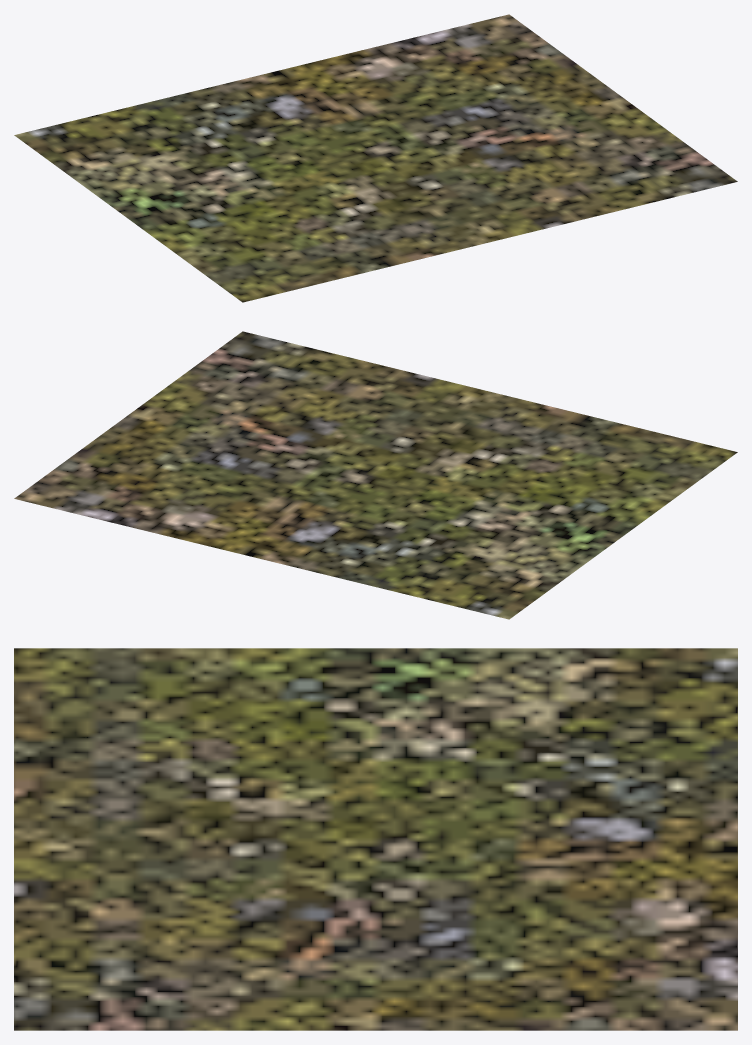
The model's file is Emb_BalconyPlanter_CapDirt_01.FBX.
The picture shows the model from 3 angles, top to bottom: view 1: azimuth 30°, elevation 25°; view 2: azimuth 150°, elevation 25°; view 3: azimuth 270°, elevation 25°; orthographic projection. The views are drawn at different scales.
Visible parts, largest first — view 1: Emb_BalconyPlanter_CapDirt_01; view 2: Emb_BalconyPlanter_CapDirt_01; view 3: Emb_BalconyPlanter_CapDirt_01.
Part boxes in pixels (x1,y1,x2,y2): Emb_BalconyPlanter_CapDirt_01: (14, 14, 737, 302); Emb_BalconyPlanter_CapDirt_01: (14, 331, 737, 619); Emb_BalconyPlanter_CapDirt_01: (14, 648, 737, 1030).
Size of the model in its own units: 1.5 by 3.33e-16 by 1.2.
